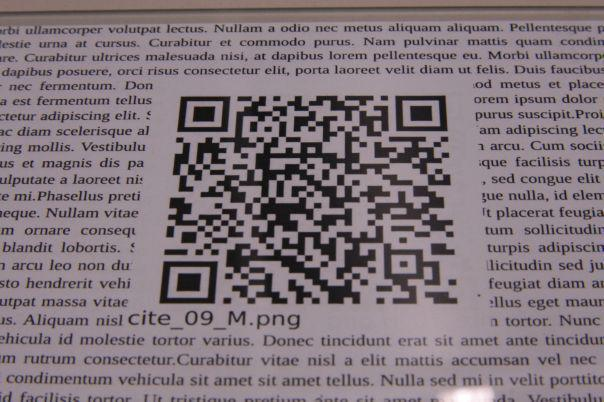qr_code: (159, 95, 458, 305)
